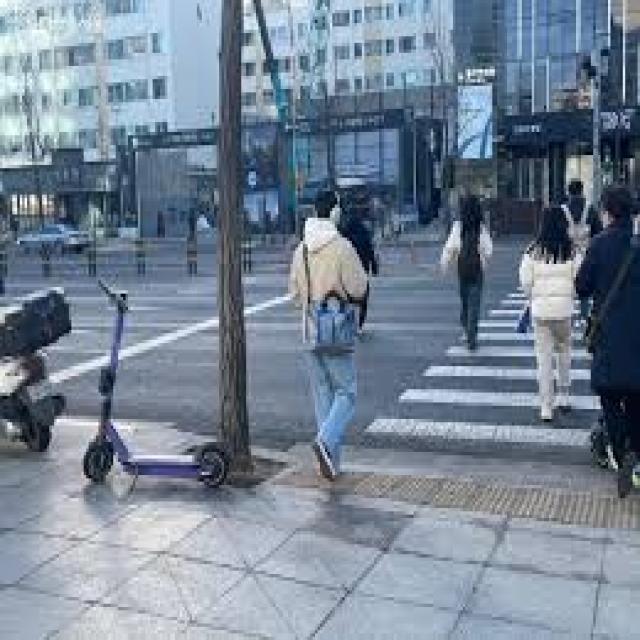kick-board: (84, 294, 226, 488)
lane: (277, 458, 640, 531)
road: (359, 243, 606, 451), (344, 268, 465, 441), (120, 278, 228, 437), (243, 280, 321, 454), (59, 367, 98, 415)
sidewalk: (0, 419, 640, 640)
verge: (352, 452, 621, 489)
